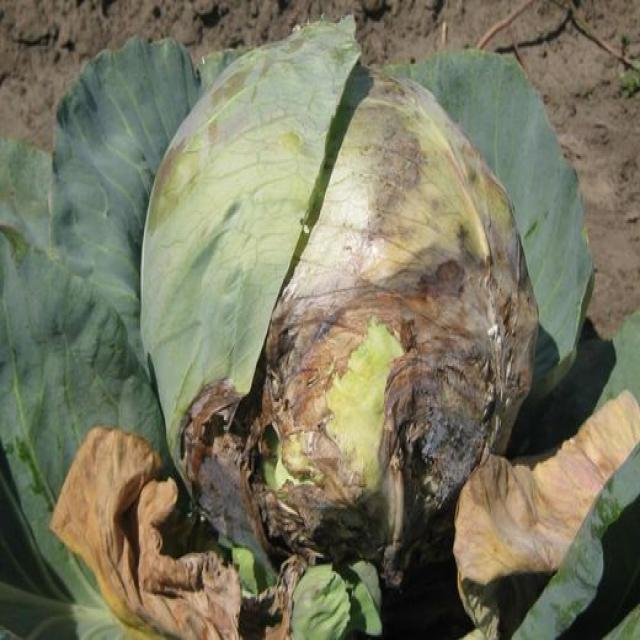Wilt_and_leaf_blight_on_lettuce: (145, 29, 542, 580)
